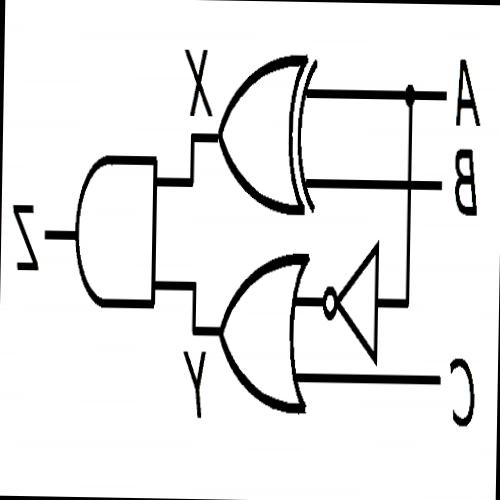and: (64, 128, 167, 322)
not: (315, 226, 386, 371)
or: (209, 237, 314, 421)
xor: (209, 40, 323, 224)
